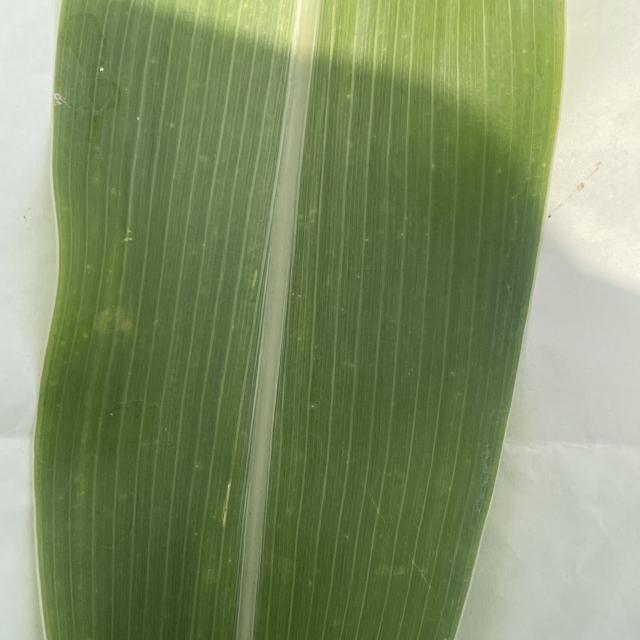millet_healthy: (34, 0, 564, 640)
